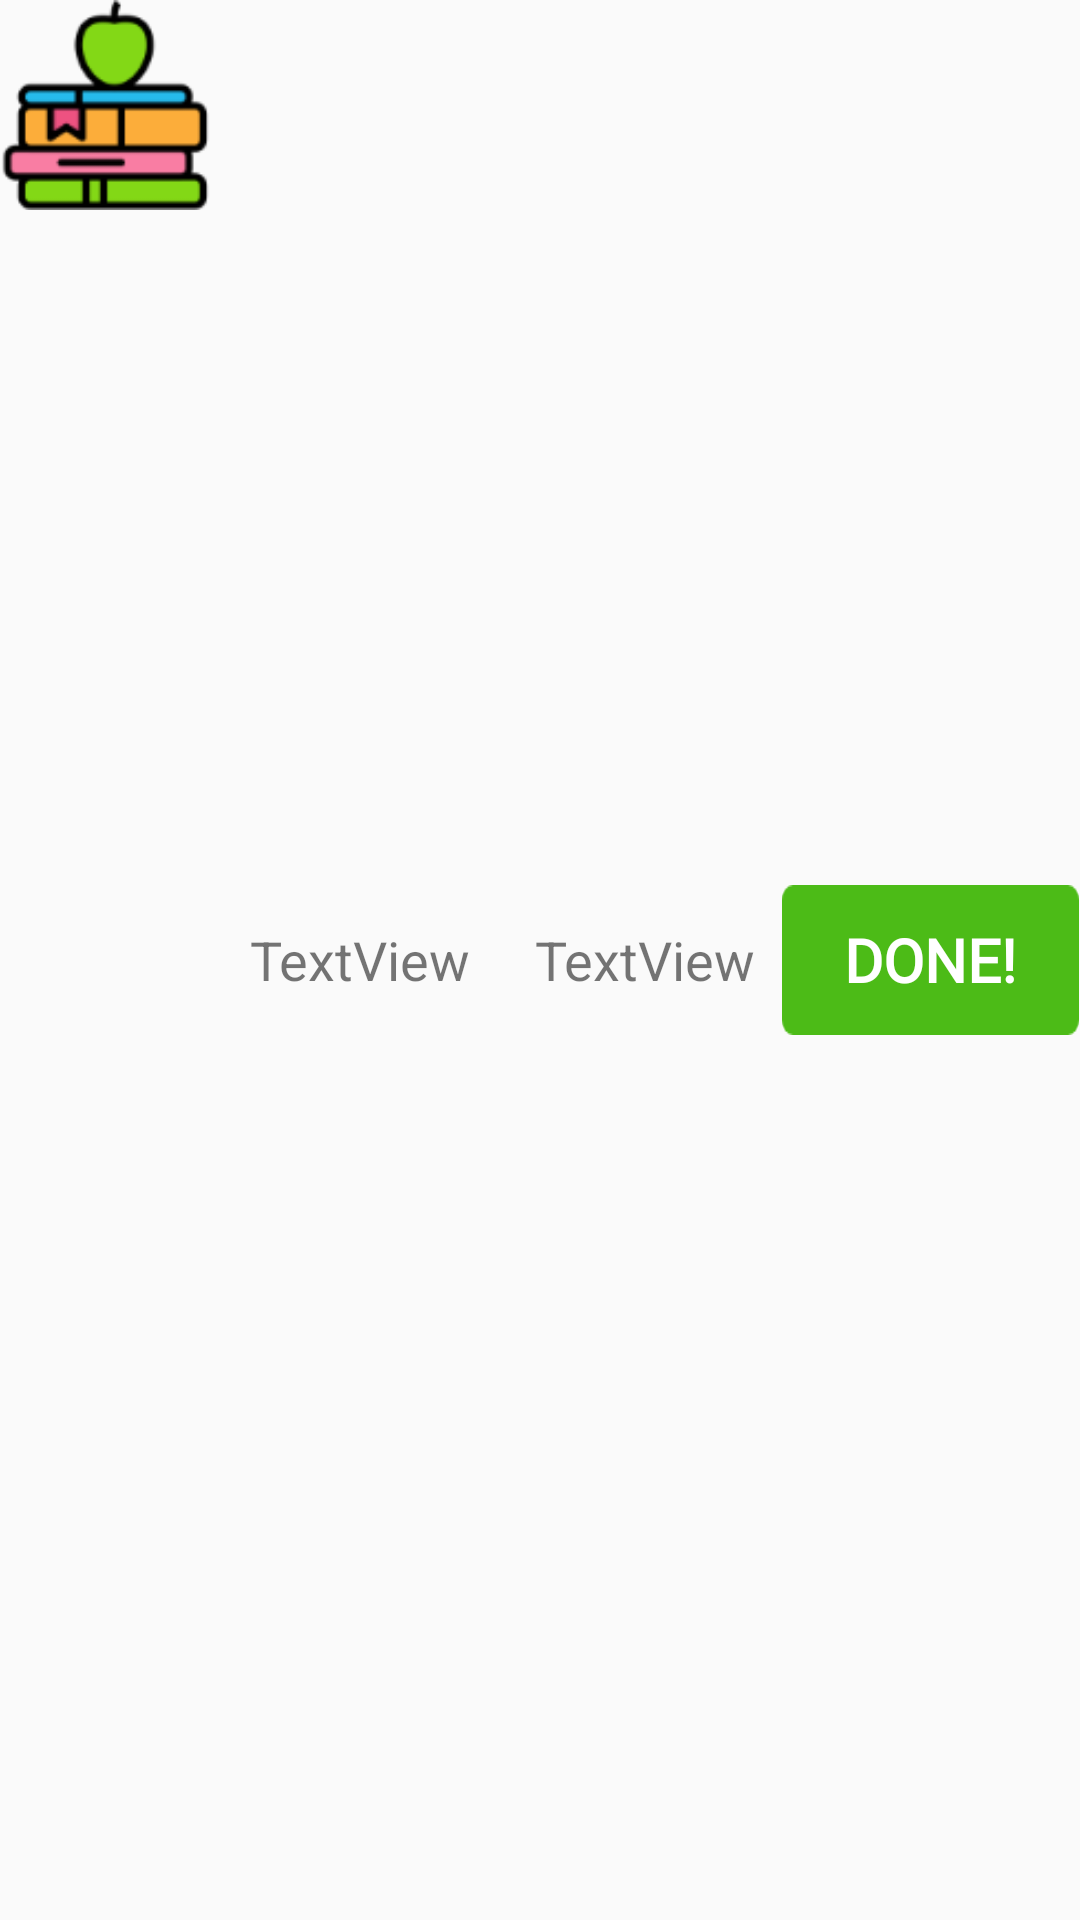

Named icons in this screenshot (1080px×1920px) and their centers, [x,y]:
book: [105,105]
